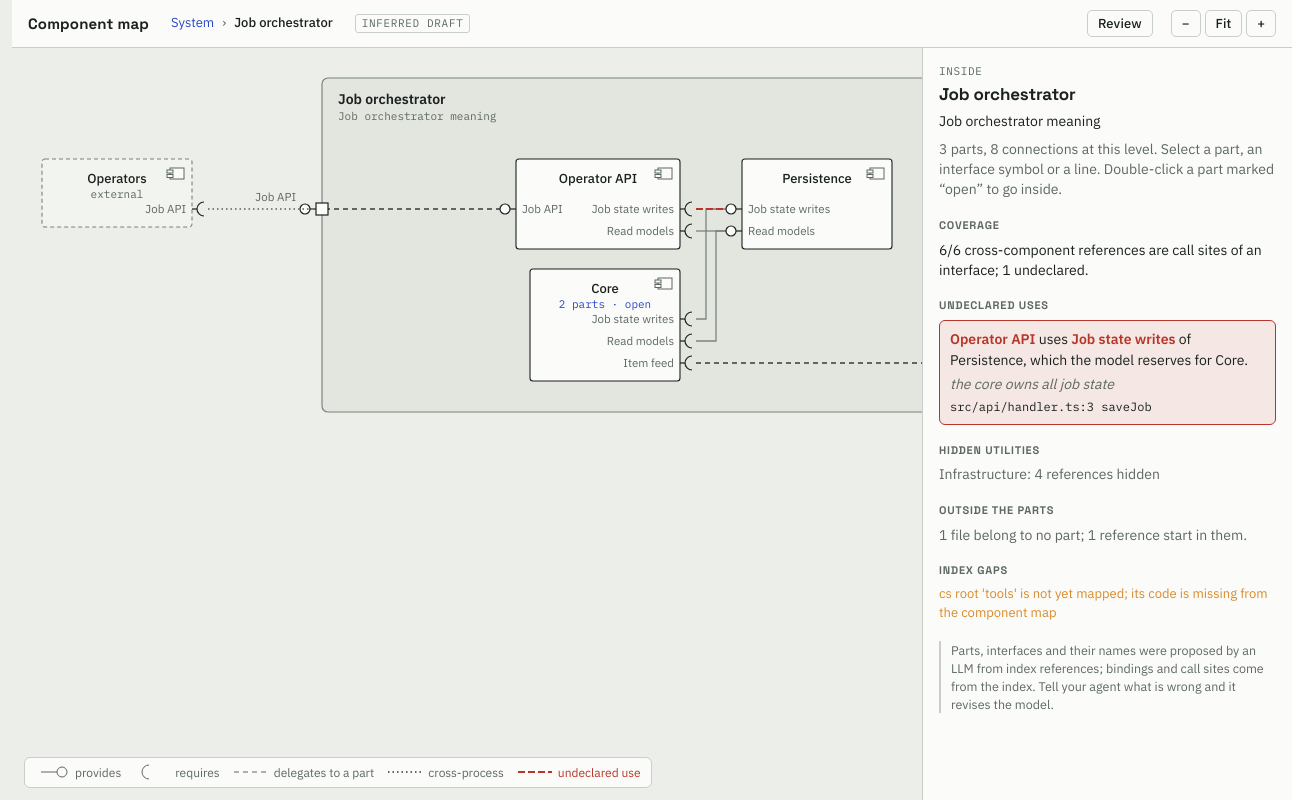
MapPage panel and states › selects an interface from an undeclared finding
The image size is (1292, 800).
Click the button "Operator API uses Job state writes". click: {"x": 1108, "y": 372}
box: x1=939 y1=320 x2=1276 y2=424
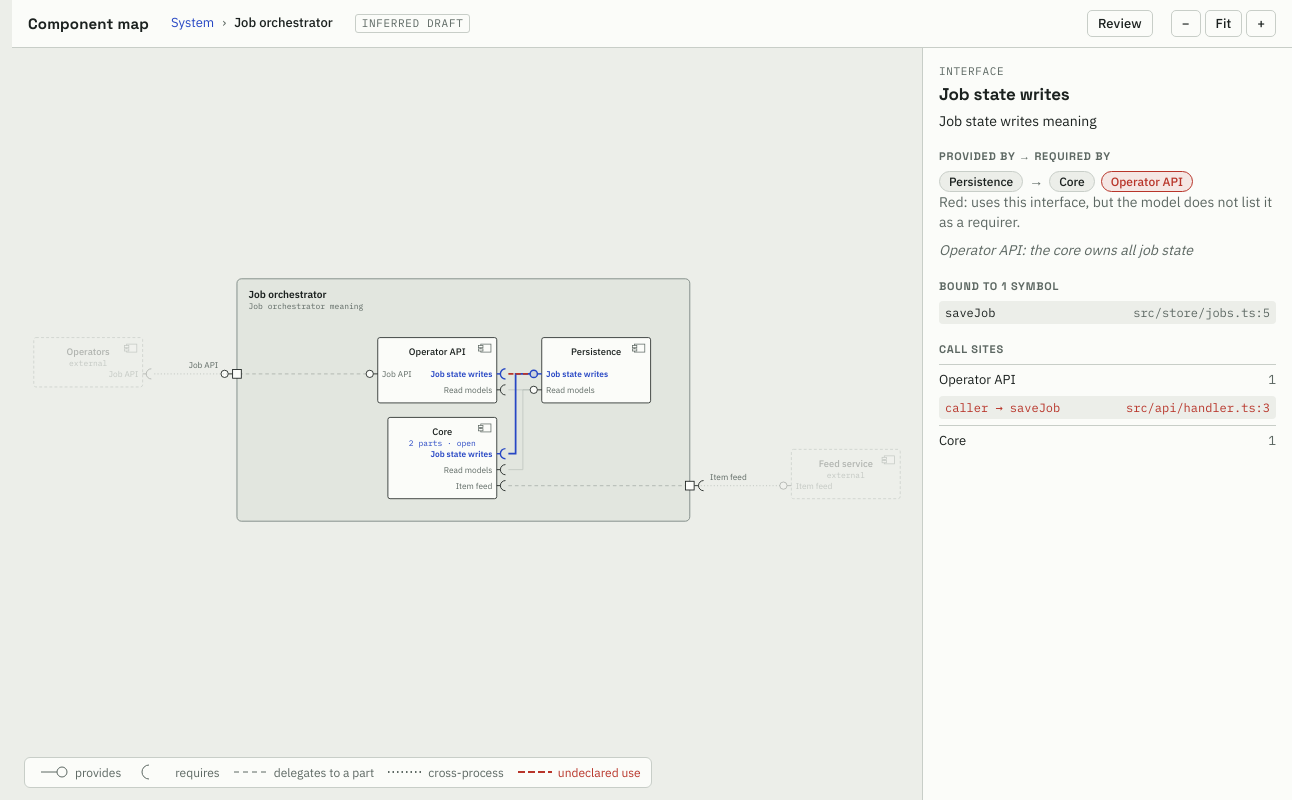
Expected: the element with test id "map-panel" shows "Red: uses this interface, but the model does not list it as a requirer.", x1=939 y1=193 x2=1272 y2=231
